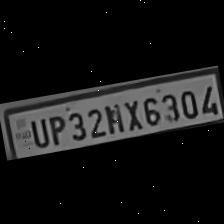0: (174, 85, 198, 119)
2: (82, 102, 106, 138)
3: (63, 106, 86, 142), (157, 88, 180, 122)
4: (194, 80, 218, 115)
6: (137, 91, 161, 126)
M: (101, 98, 125, 134)
P: (45, 110, 67, 146)
U: (26, 114, 48, 148)
X: (120, 95, 143, 131)
